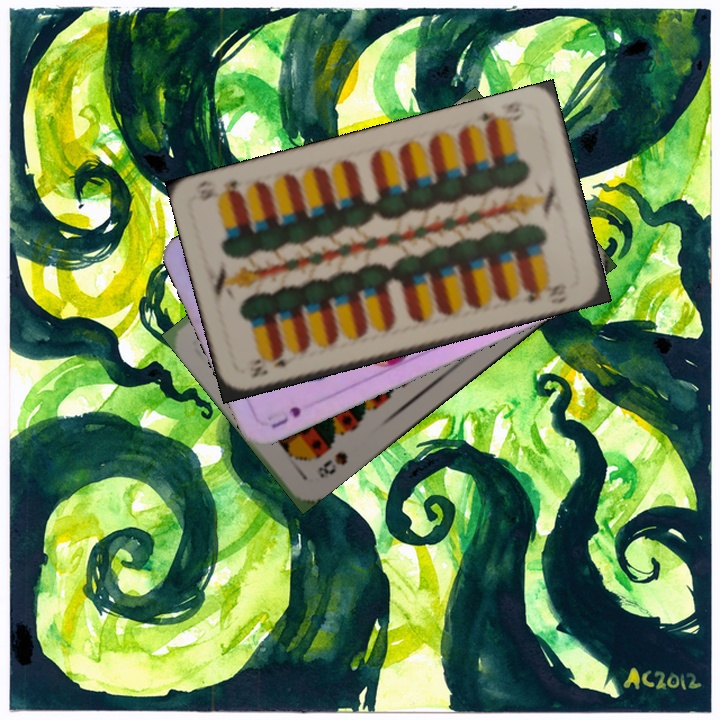E10: (474, 97, 528, 133), (247, 351, 299, 380)
S8: (313, 447, 351, 481)
SU: (267, 402, 304, 431)
